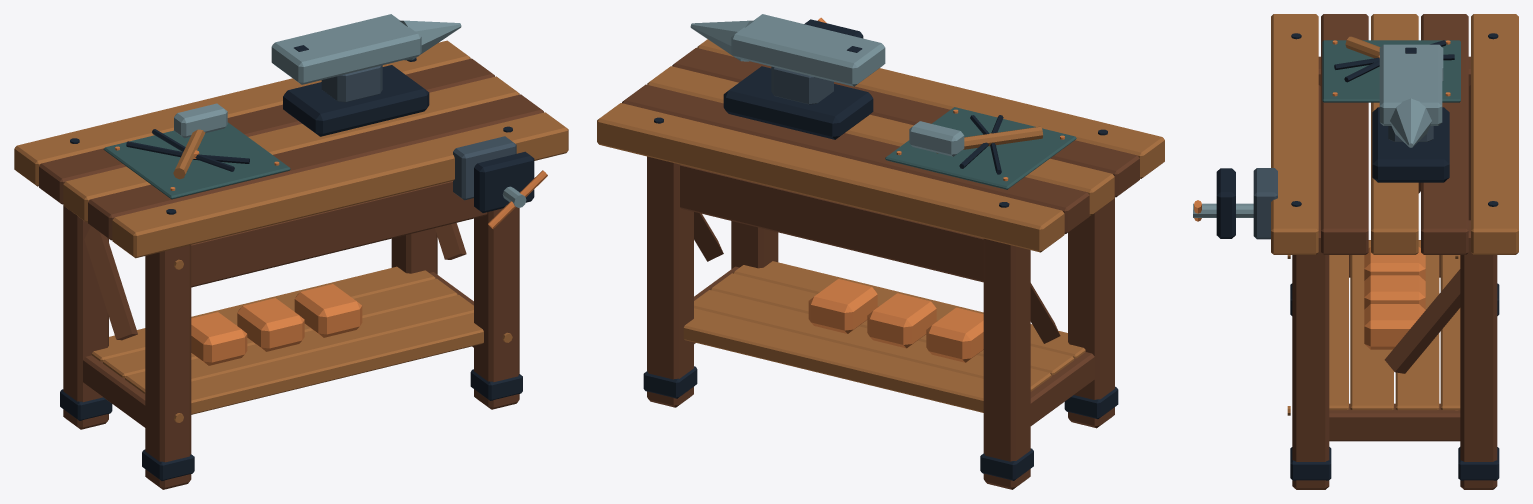
File: Workbench.gltf
The picture shows the model from 3 angles, left to right: view 1: azimuth 30°, elevation 25°; view 2: azimuth 150°, elevation 25°; view 3: azimuth 270°, elevation 25°; orthographic projection. The views are drawn at different scales.
Visible parts, largest first — view 1: Top_Plank_26, Apron_Rail_16, Oak_Leg_0, Shelf_Plank_22, Top_Plank_27, Oak_Leg_8, Top_Plank_30, Anvil_Face_37, Leather_Mat_40, Oak_Leg_4, Top_Plank_28, Anvil_Foot_35 (+20 smaller); view 2: Top_Plank_30, Apron_Rail_17, Oak_Leg_4, Shelf_Plank_25, Oak_Leg_12, Top_Plank_29, Oak_Leg_0, Top_Plank_26, Anvil_Face_37, Leather_Mat_40, Top_Plank_27, Anvil_Foot_35 (+18 smaller); view 3: Top_Plank_30, Top_Plank_26, Top_Plank_27, Oak_Leg_8, Oak_Leg_12, Top_Plank_29, Top_Plank_28, Anvil_Face_37, Lower_Crossbar_20, Leather_Mat_40, Shelf_Plank_23, Anvil_Foot_35 (+15 smaller).
Part boxes in pixels (x1=…): Top_Plank_26: x1=112, y1=112, x2=568, y2=258; Apron_Rail_16: x1=191, y1=181, x2=487, y2=287; Oak_Leg_0: x1=145, y1=245, x2=191, y2=489; Shelf_Plank_22: x1=191, y1=312, x2=483, y2=414; Top_Plank_27: x1=88, y1=94, x2=543, y2=240; Oak_Leg_8: x1=474, y1=207, x2=519, y2=409; Top_Plank_30: x1=14, y1=40, x2=470, y2=186; Anvil_Face_37: x1=271, y1=14, x2=421, y2=84; Leather_Mat_40: x1=103, y1=122, x2=290, y2=199; Oak_Leg_4: x1=63, y1=205, x2=108, y2=429; Top_Plank_28: x1=63, y1=76, x2=519, y2=222; Anvil_Foot_35: x1=283, y1=65, x2=429, y2=136; Top_Plank_30: x1=597, y1=103, x2=1064, y2=252; Apron_Rail_17: x1=680, y1=164, x2=983, y2=282; Oak_Leg_4: x1=983, y1=239, x2=1030, y2=489; Shelf_Plank_25: x1=683, y1=308, x2=983, y2=412; Oak_Leg_12: x1=647, y1=156, x2=693, y2=407; Top_Plank_29: x1=622, y1=84, x2=1089, y2=233; Oak_Leg_0: x1=1068, y1=197, x2=1114, y2=428; Top_Plank_26: x1=697, y1=39, x2=1164, y2=178; Anvil_Face_37: x1=731, y1=14, x2=885, y2=86; Leather_Mat_40: x1=885, y1=107, x2=1076, y2=189; Top_Plank_27: x1=672, y1=47, x2=1139, y2=197; Anvil_Foot_35: x1=723, y1=66, x2=873, y2=139; Top_Plank_30: x1=1471, y1=14, x2=1518, y2=254; Top_Plank_26: x1=1271, y1=14, x2=1318, y2=254; Top_Plank_27: x1=1321, y1=14, x2=1368, y2=254; Oak_Leg_8: x1=1292, y1=220, x2=1329, y2=489; Oak_Leg_12: x1=1460, y1=220, x2=1497, y2=489; Top_Plank_29: x1=1421, y1=14, x2=1468, y2=254; Top_Plank_28: x1=1371, y1=14, x2=1418, y2=254; Anvil_Face_37: x1=1379, y1=44, x2=1442, y2=125; Lower_Crossbar_20: x1=1329, y1=403, x2=1460, y2=441; Leather_Mat_40: x1=1322, y1=40, x2=1460, y2=102; Shelf_Plank_23: x1=1350, y1=240, x2=1393, y2=410; Anvil_Foot_35: x1=1372, y1=107, x2=1449, y2=182.
Size of the model in its own units: 3.18 by 2.48 by 2.02.
